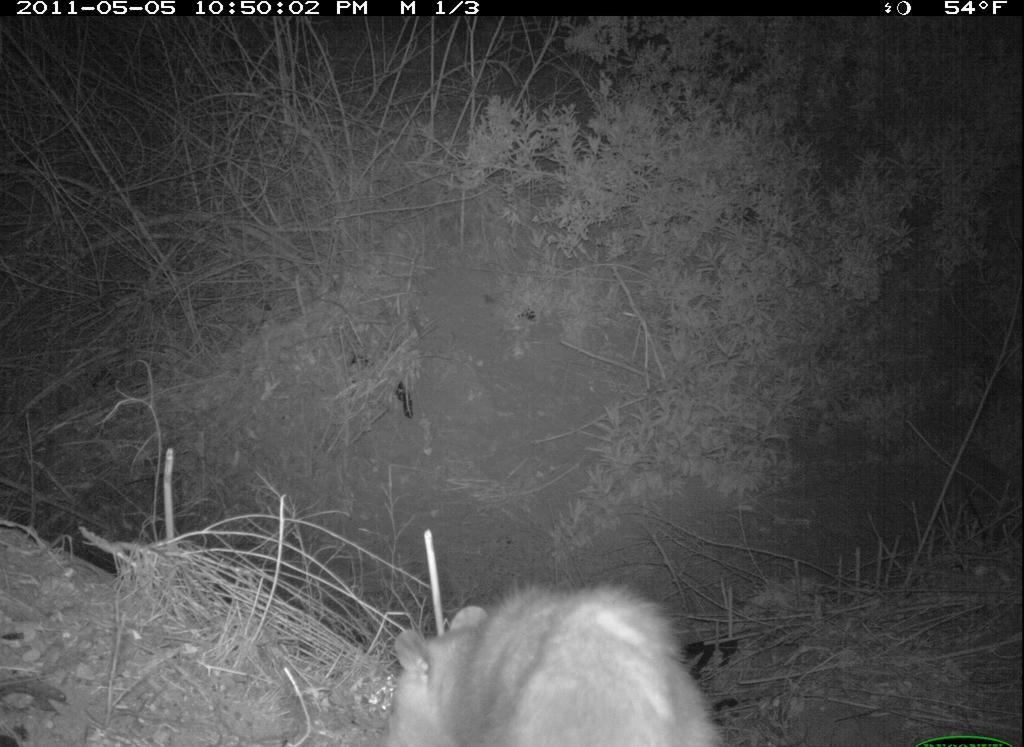opossum: (374, 571, 731, 747)
